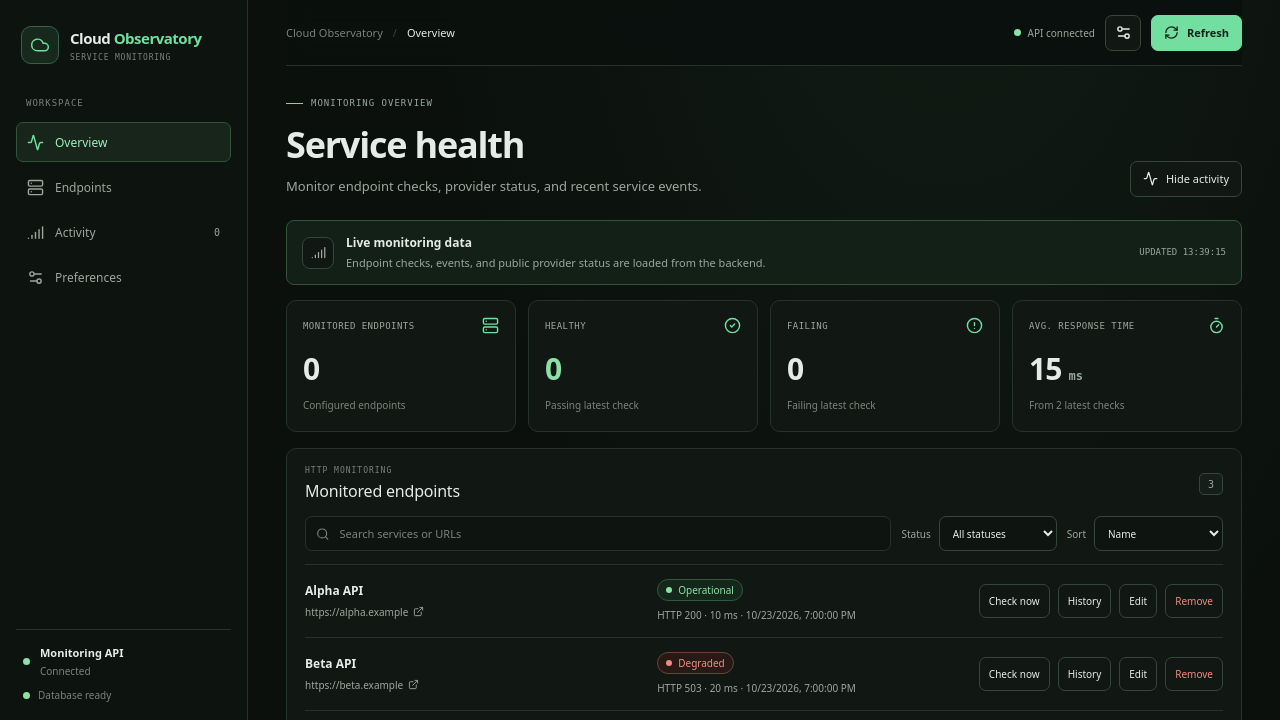
Scenario: dashboard interactions › filters endpoints by text and health status
This screenshot has width=1280, height=720.
Expected: the text "Alpha API" is shown, [305,582,363,599]
Select "Failing" in the dropdown named "Filter endpoints by status": (998, 534) [939,516,1057,551]
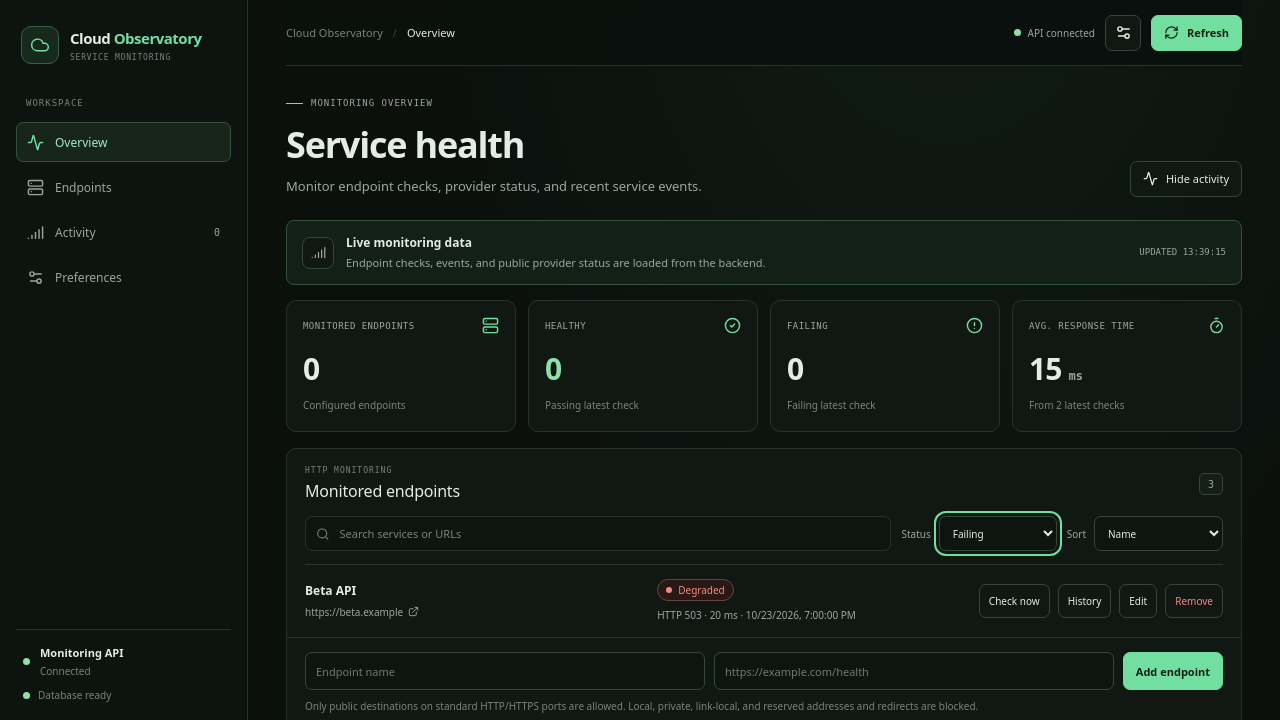
Expected: the text "Beta API" is shown, [305,582,356,599]
Result: the text "Alpha API" is gone
Select "All statuses" in the dropdown named "Filter endpoints by status": (998, 534) [939,516,1057,551]
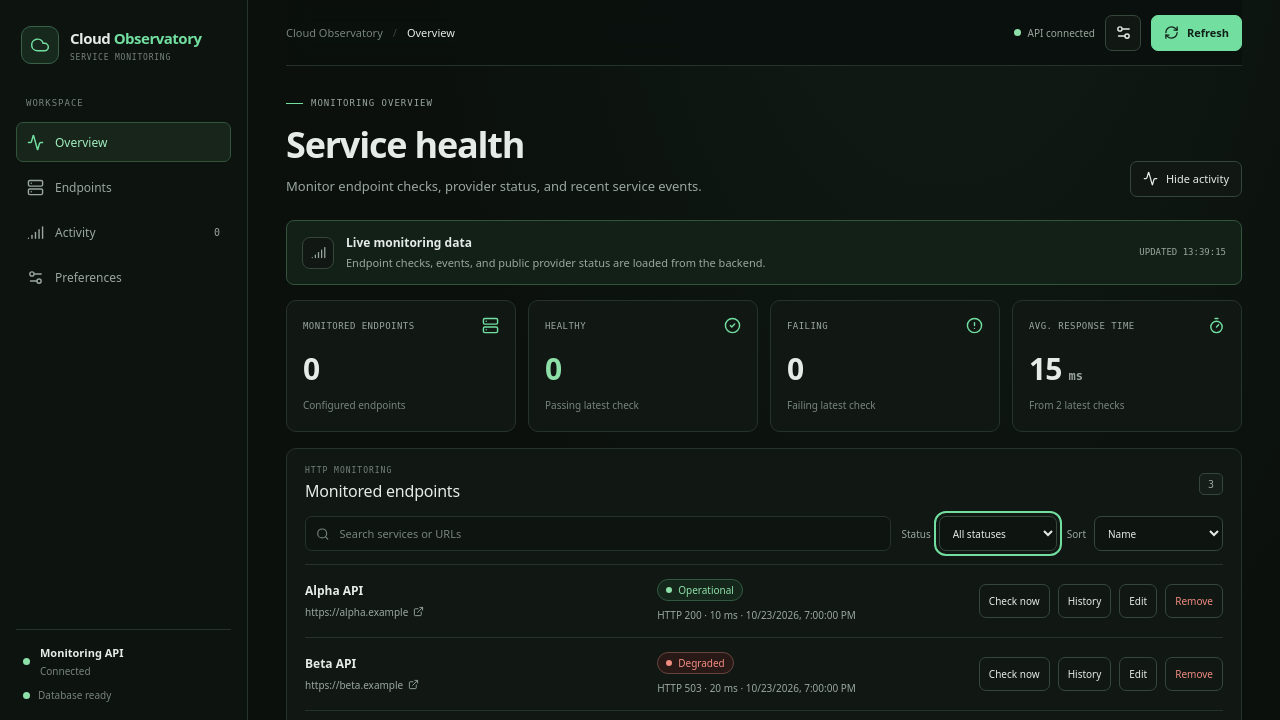
In the field named "Search monitored endpoints": (609, 534) [338,525,880,542], type "gamma"
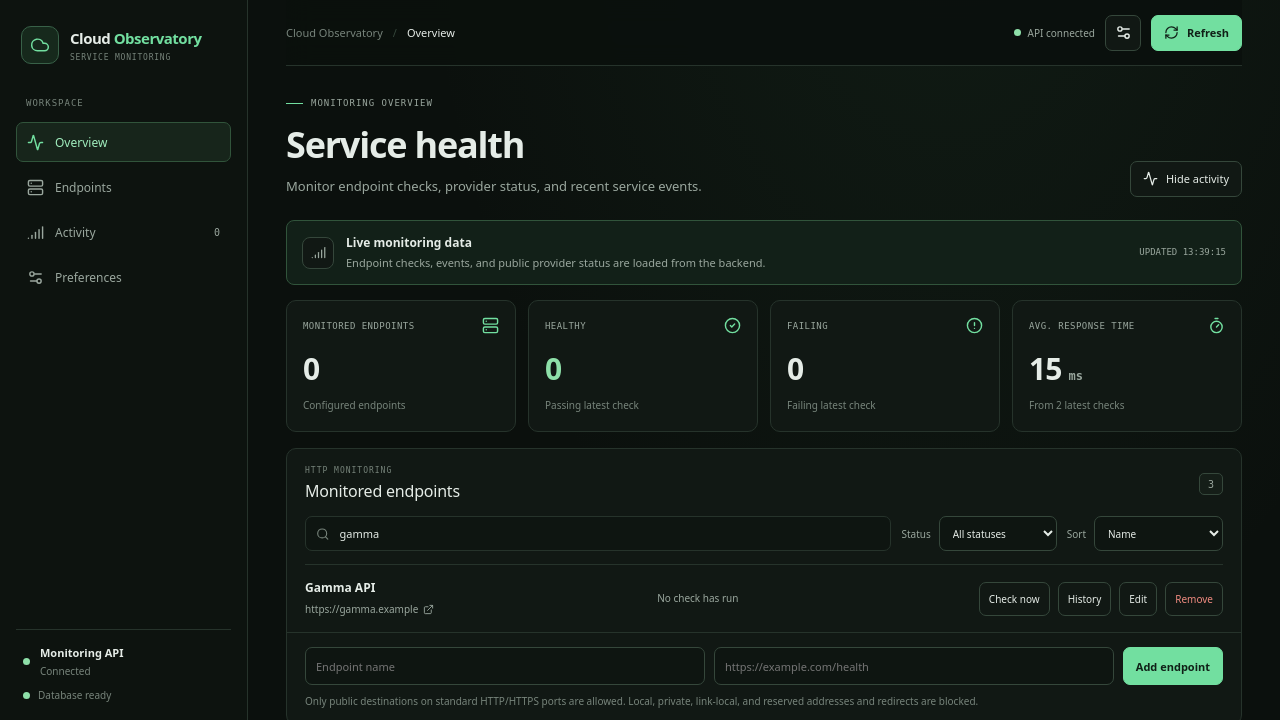
Result: the text "Gamma API" is shown at [305,579,375,596]
Result: the text "Alpha API" is gone
